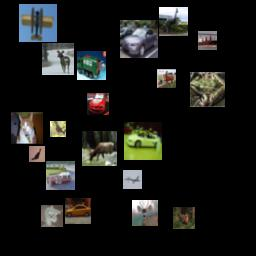airplane: (19, 4, 57, 42), (123, 170, 142, 189), (29, 146, 45, 162)
automobile: (120, 20, 158, 58), (124, 122, 162, 160), (65, 198, 91, 224), (87, 93, 109, 115)
bird: (159, 7, 188, 36), (50, 121, 66, 137)
cat: (11, 112, 43, 144)
deer: (82, 131, 117, 166), (42, 43, 74, 75), (132, 200, 158, 226), (173, 207, 195, 229)
dog: (41, 205, 63, 227)
frog: (190, 72, 225, 107)
ship: (198, 31, 217, 50)
truck: (46, 161, 75, 190), (77, 51, 106, 80)
